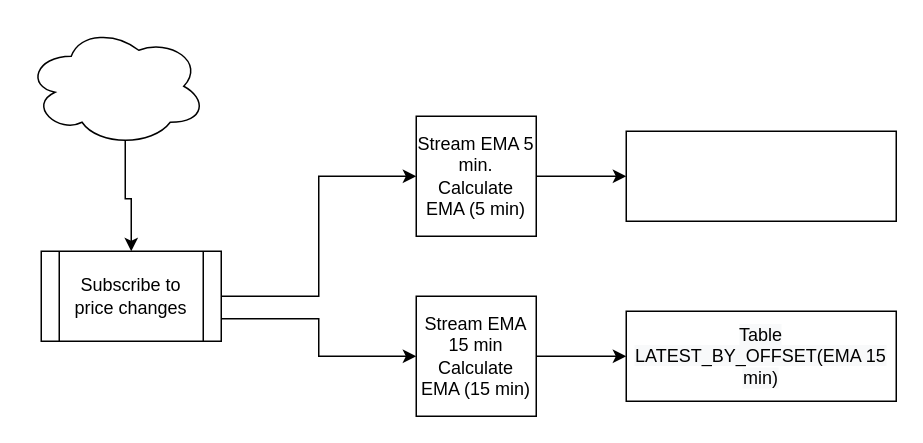
This 923x443 diagram has some shape labels left out. The centre of each missing label's shape, as x and y in pixels:
Binance.com: the point at 115,85
Table LATEST_BY_OFFSET(EMA 5 min): the point at 760,175
